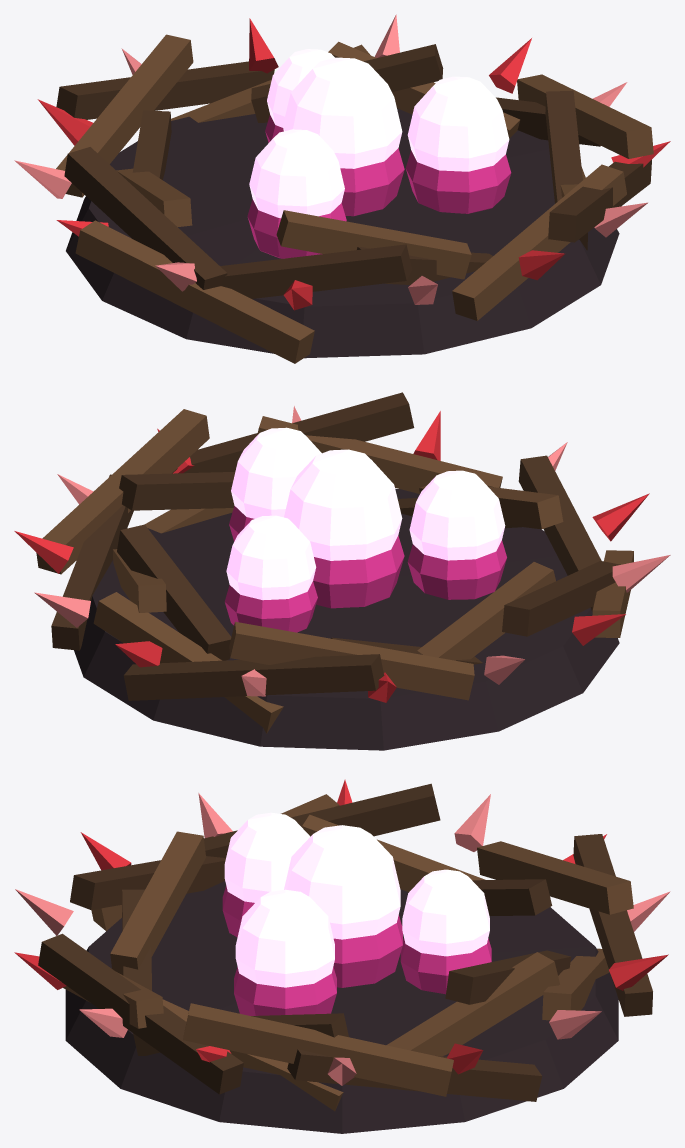
The model's file is Mine_PestNest.fbx.
The picture shows the model from 3 angles, top to bottom: view 1: azimuth 30°, elevation 25°; view 2: azimuth 150°, elevation 25°; view 3: azimuth 270°, elevation 25°; orthographic projection. The views are drawn at different scales.
Parts seen in each view (by area): view 1: Mine_PestNest_Body, Mine_PestNest_Eggs; view 2: Mine_PestNest_Body, Mine_PestNest_Eggs; view 3: Mine_PestNest_Body, Mine_PestNest_Eggs.
Part boxes in pixels (x1=…): Mine_PestNest_Body: x1=14, y1=14, x2=670, y2=363; Mine_PestNest_Eggs: x1=247, y1=49, x2=511, y2=258; Mine_PestNest_Body: x1=14, y1=392, x2=670, y2=750; Mine_PestNest_Eggs: x1=224, y1=427, x2=506, y2=632; Mine_PestNest_Body: x1=14, y1=779, x2=670, y2=1133; Mine_PestNest_Eggs: x1=222, y1=812, x2=491, y2=1015.
Size of the model in its own units: 1.42 by 0.4325 by 1.39.
